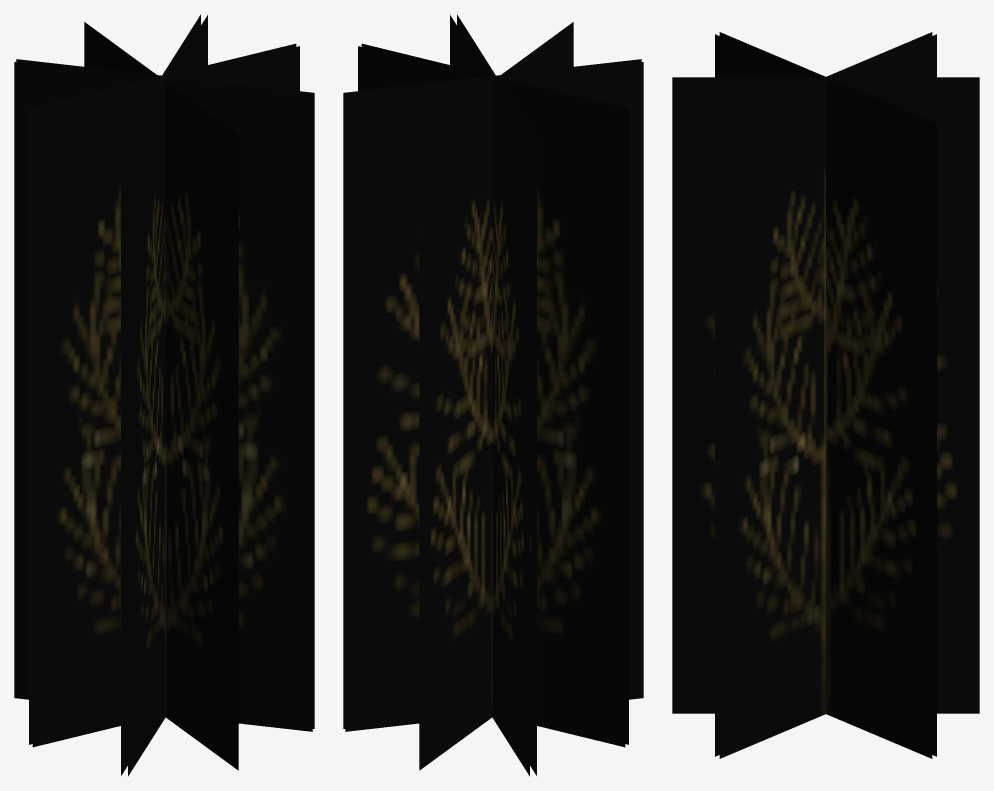
Rendered from bush05_winter.gltf.
The picture shows the model from 3 angles, left to right: view 1: azimuth 30°, elevation 25°; view 2: azimuth 150°, elevation 25°; view 3: azimuth 270°, elevation 25°; orthographic projection.
Parts seen in each view (by area): view 1: bush5_winter; view 2: bush5_winter; view 3: bush5_winter.
Boxes of the visible parts, bbox=[...] form: bush5_winter: bbox=[14, 14, 314, 776]; bush5_winter: bbox=[343, 14, 643, 776]; bush5_winter: bbox=[672, 32, 979, 758].
Size of the model in its own units: 0.44 by 1 by 0.44.
1 material, 1 textured.
